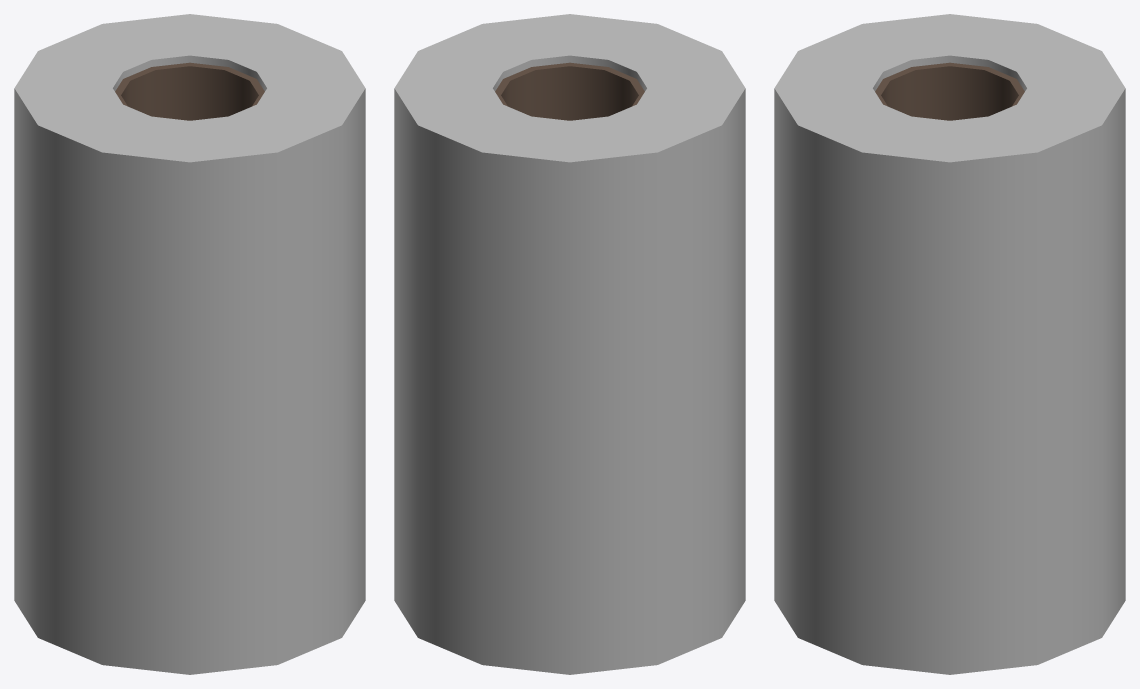
Rendered from CarlesRolloPapelCocina.fbx.
The picture shows the model from 3 angles, left to right: view 1: azimuth 30°, elevation 25°; view 2: azimuth 150°, elevation 25°; view 3: azimuth 270°, elevation 25°; orthographic projection.
Visible parts, largest first — view 1: RolloPapelCocina; view 2: RolloPapelCocina; view 3: RolloPapelCocina.
Boxes of the visible parts, x1,y1,x2,y2 form: RolloPapelCocina: (14, 14, 365, 674); RolloPapelCocina: (394, 14, 745, 674); RolloPapelCocina: (774, 14, 1125, 674).
Bounding box in the file's own units: 9.68 × 15.59 × 9.68.
